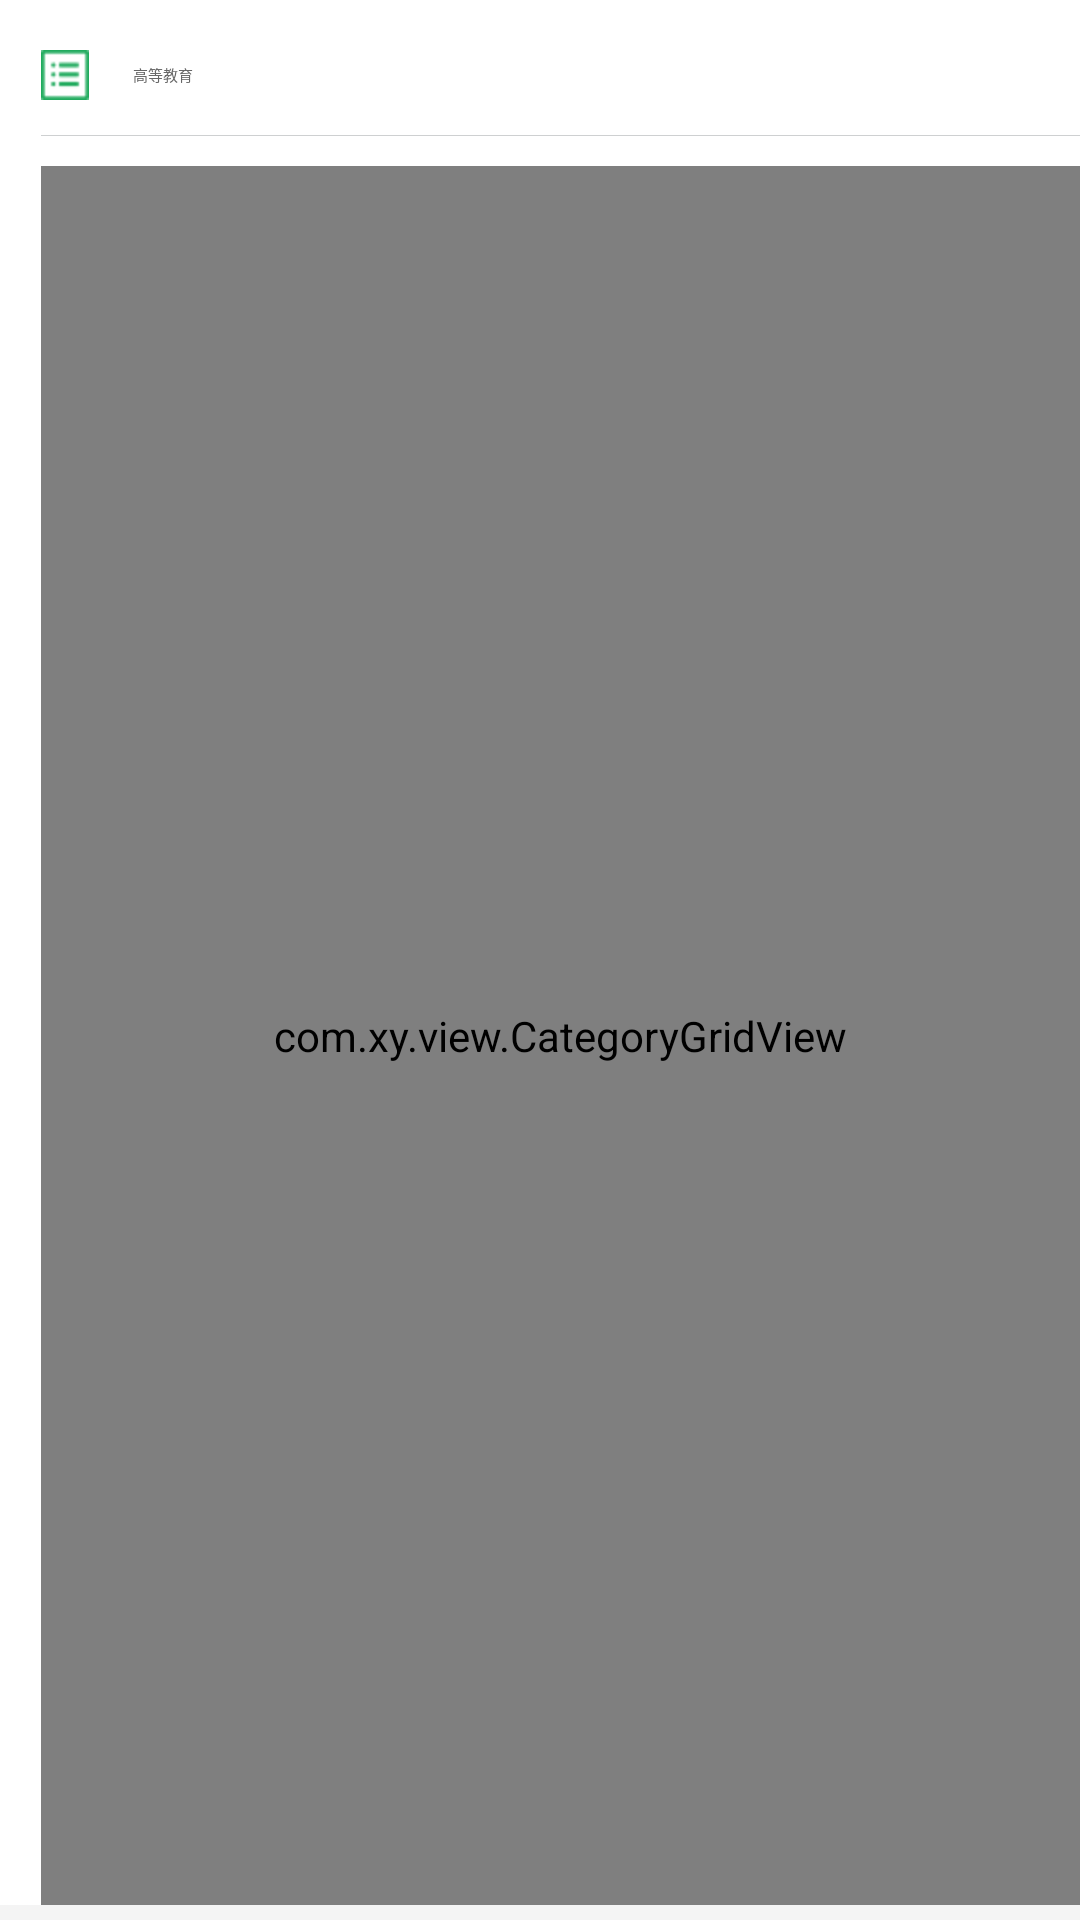

Point at icon controls on the screen. Image size 1080 × 1920, points as point (x, y).
course cate: point (65, 75)
